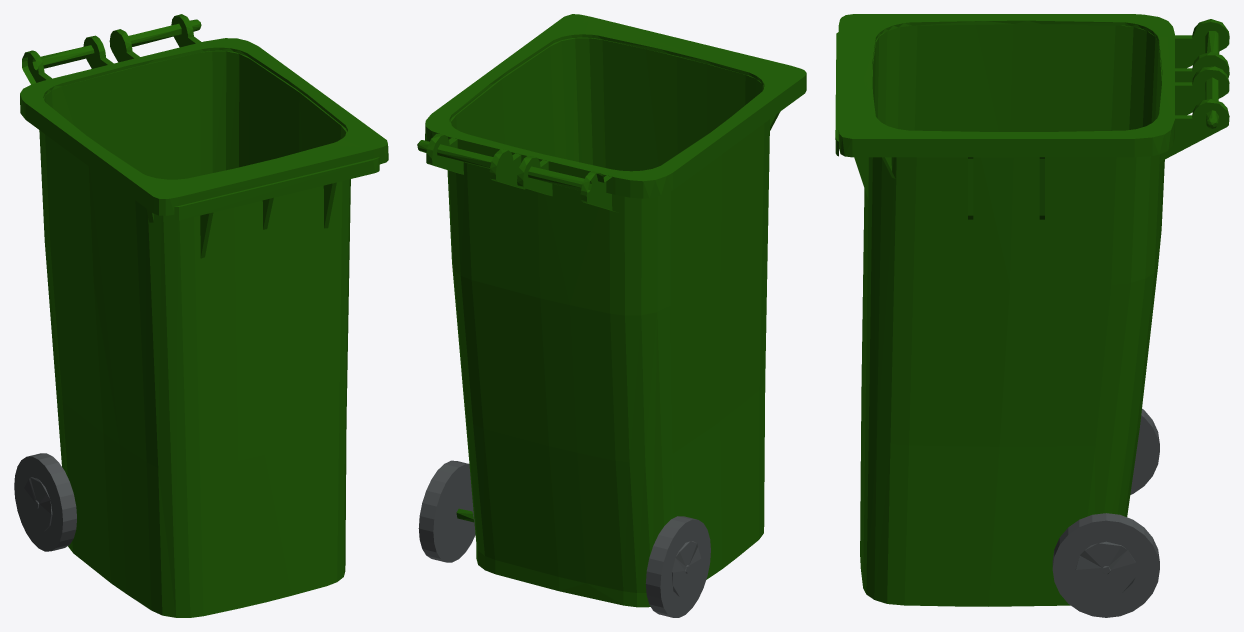
The model's file is GreenTrashCan.fbx.
3 views of the same model, side by side, from view 1: azimuth 30°, elevation 25°; view 2: azimuth 150°, elevation 25°; view 3: azimuth 270°, elevation 25° (orthographic). The views are drawn at different scales.
Visible parts, largest first — view 1: group2; view 2: group2; view 3: group2.
Boxes of the visible parts, x1,y1,x2,y2 form: group2: [14, 14, 388, 617]; group2: [417, 14, 806, 617]; group2: [835, 14, 1229, 617].
Bounding box in the file's own units: 5.02 × 9.11 × 6.57.
